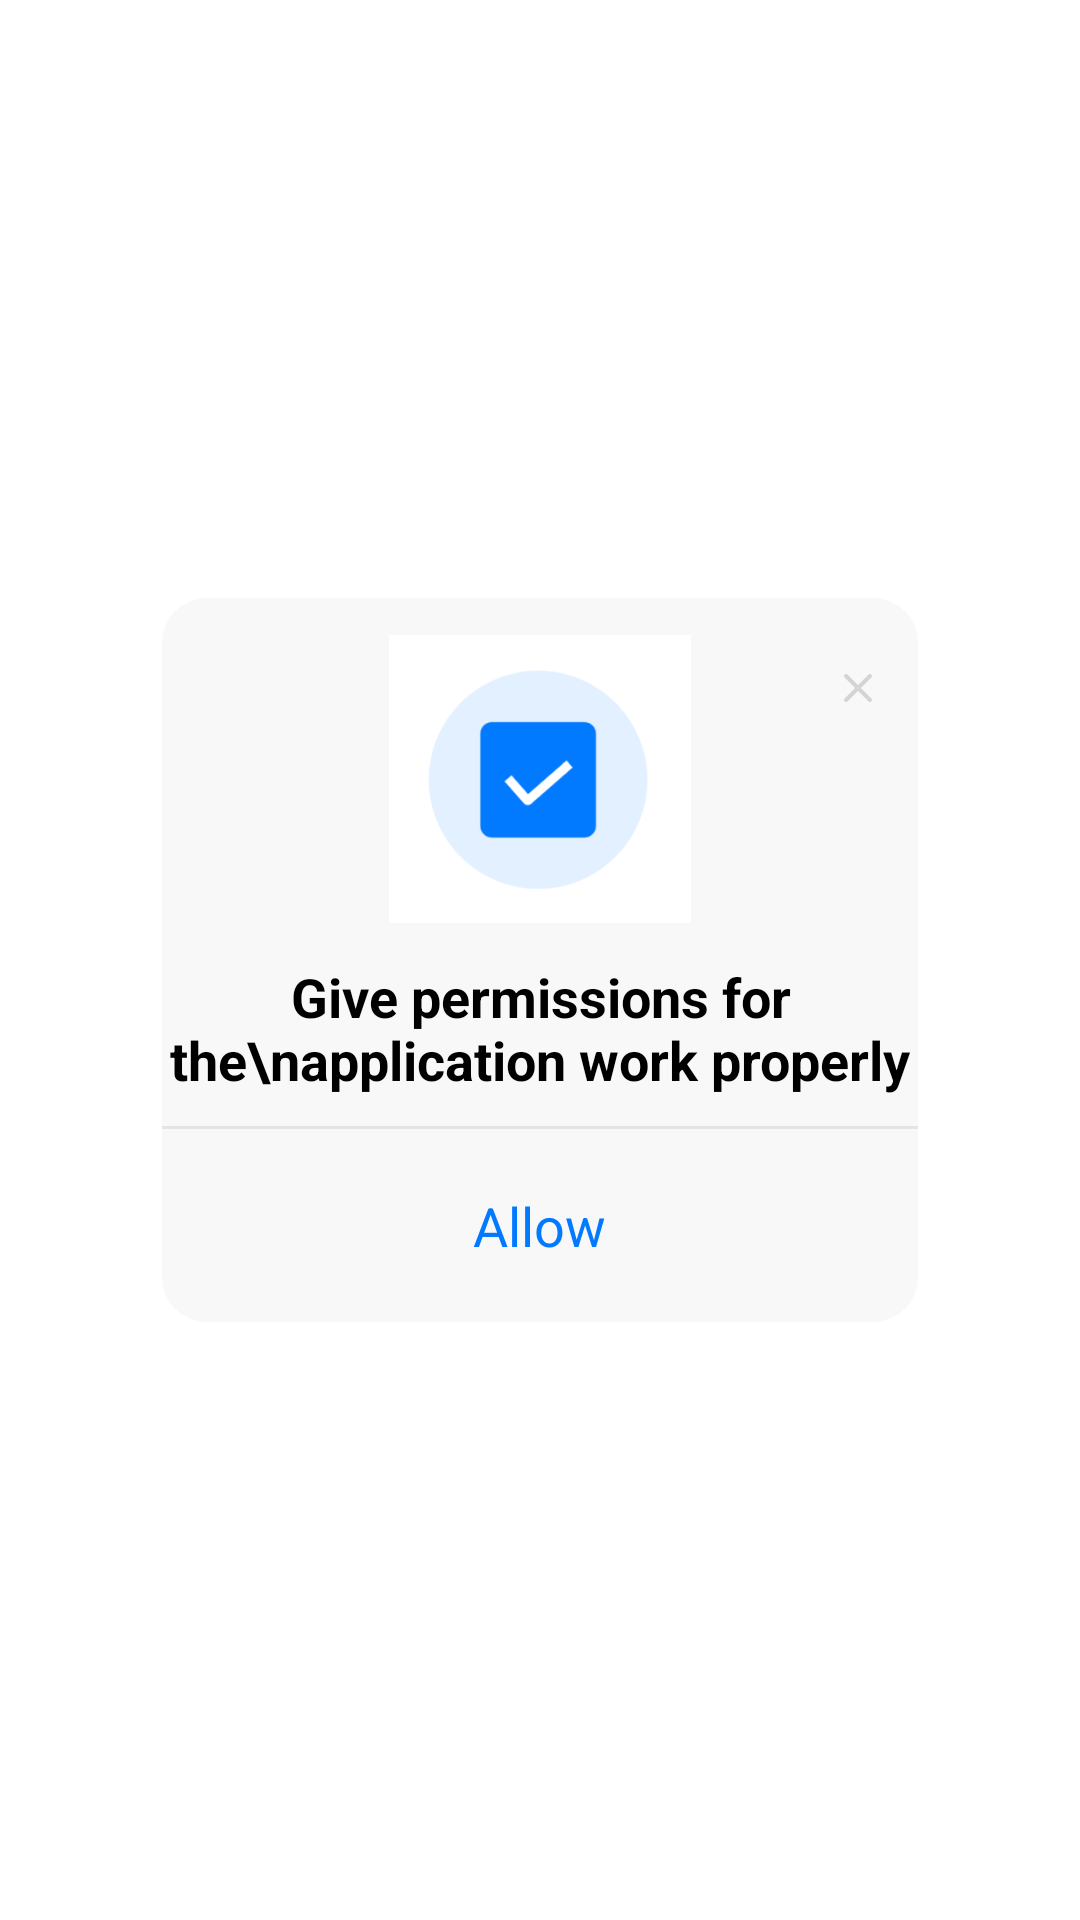

Where to tap for icons on this 1080x1920 app screen, as (x=x, y=y):
cancel: (x=858, y=688)
